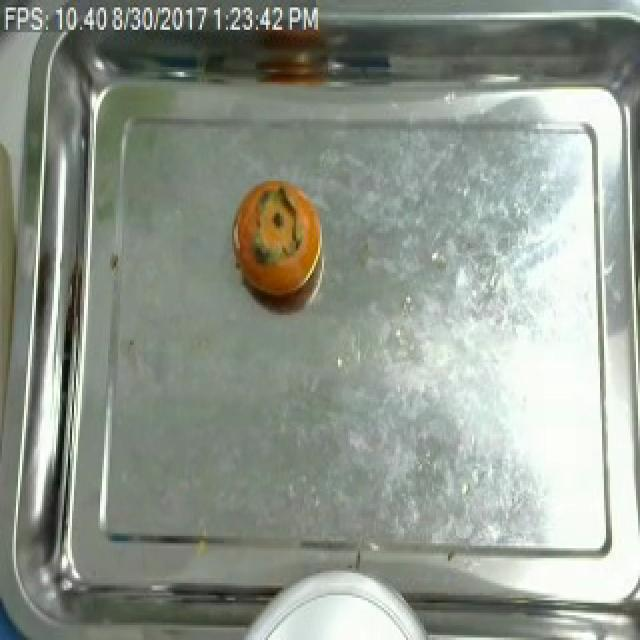Fruit: (224, 176, 326, 300)
